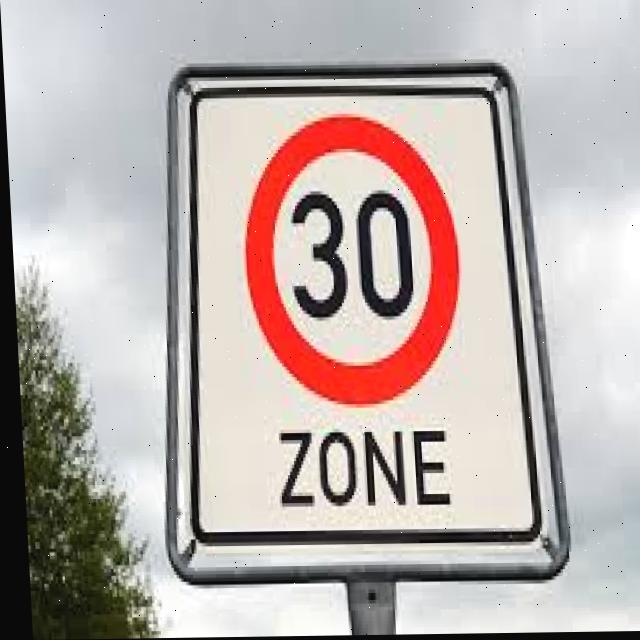Speed limit 30: (234, 111, 465, 408)
